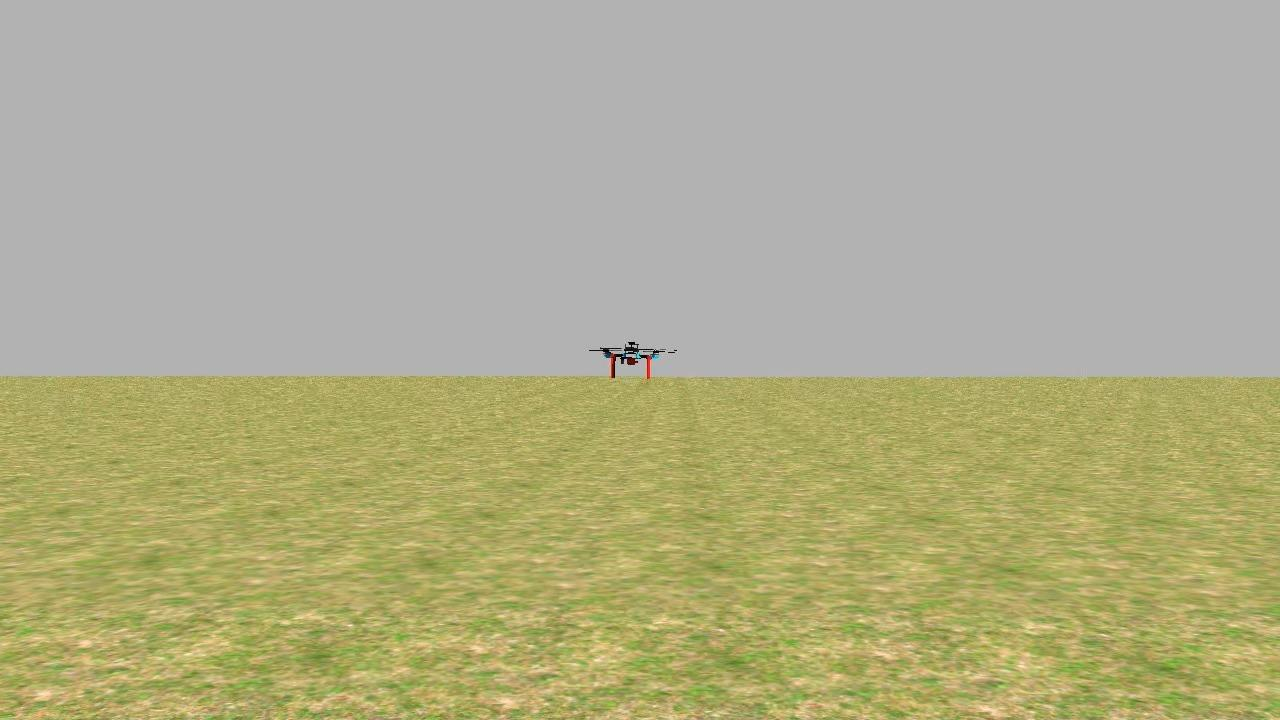UAV: (586, 319, 674, 394)
